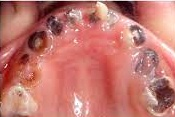Caries: (146, 77, 175, 115), (132, 47, 160, 83), (45, 9, 83, 35), (87, 1, 120, 29), (27, 29, 51, 51), (128, 24, 146, 47), (18, 52, 33, 65)
